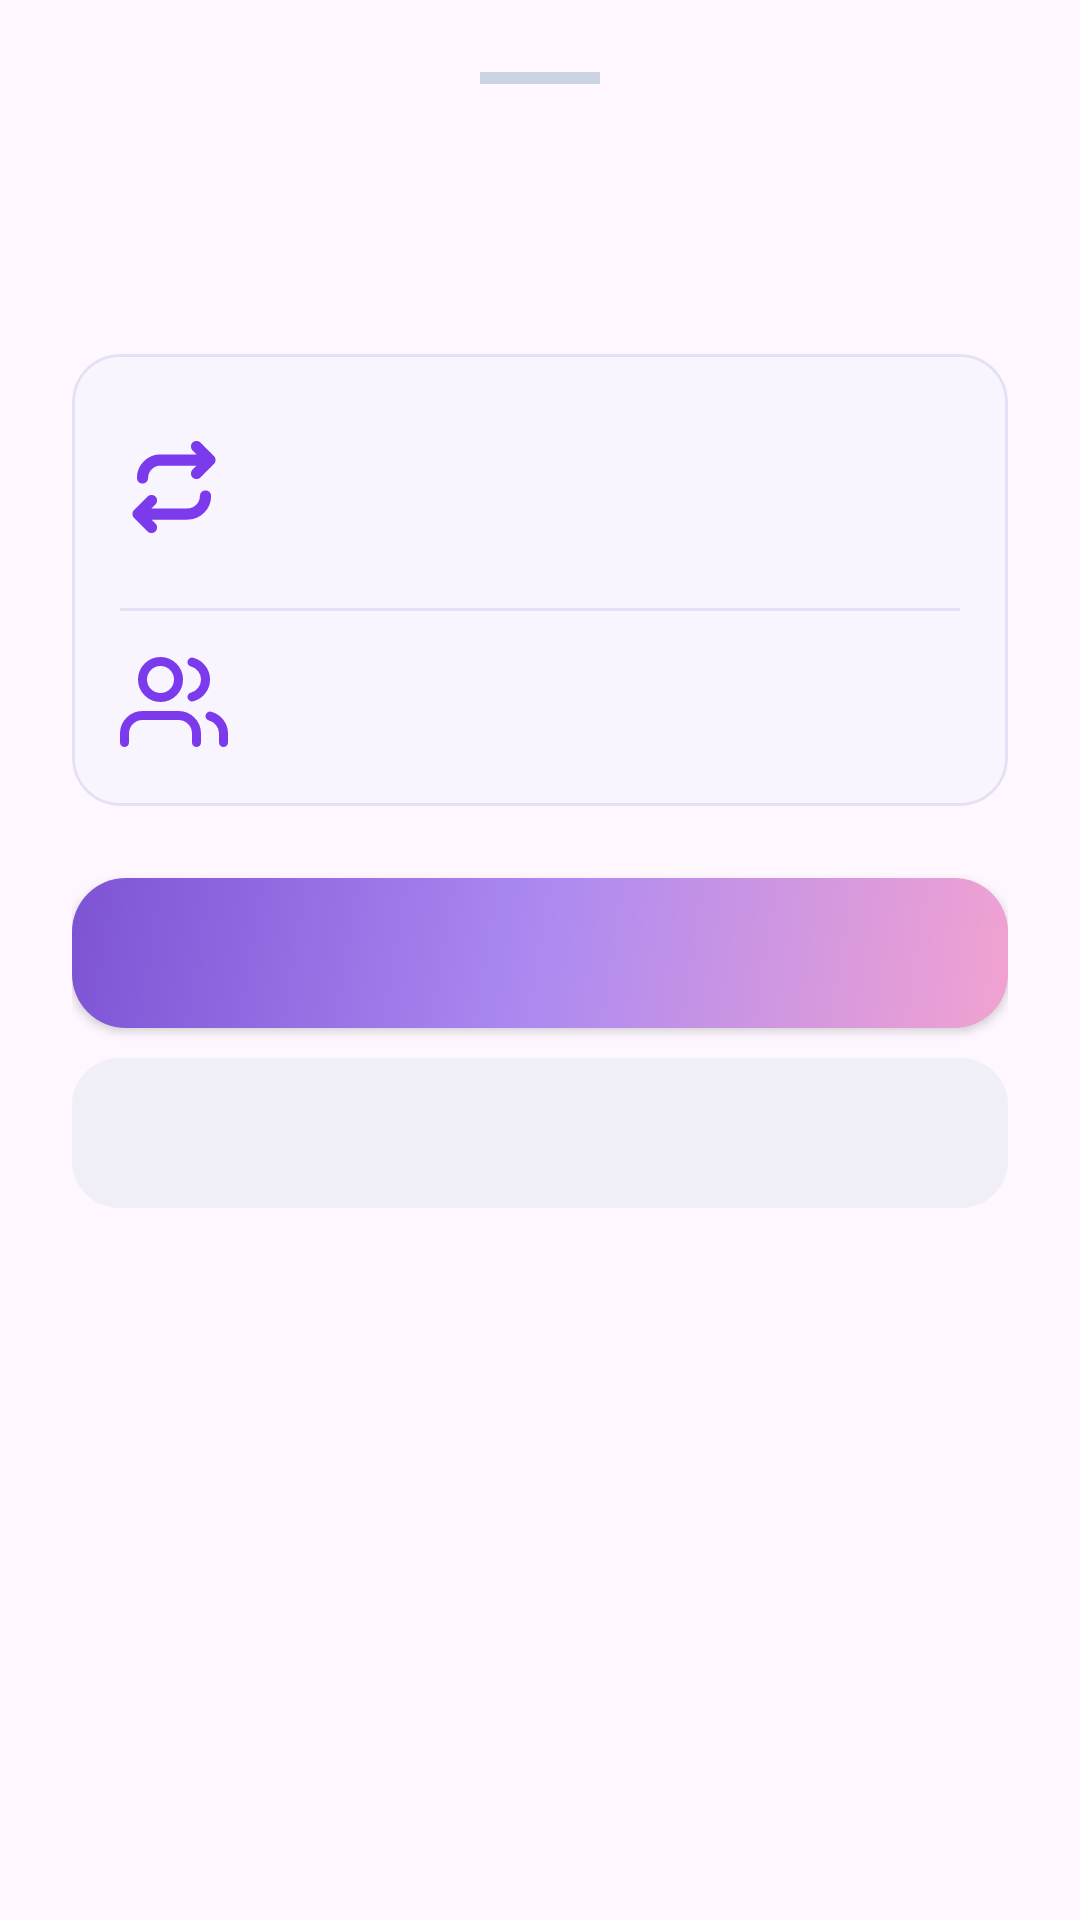

Named icons in this screenshot (1080w x 1920h) and their centers, (x=x, y=y):
people: (x=174, y=702)
shift swaps: (x=174, y=487)
